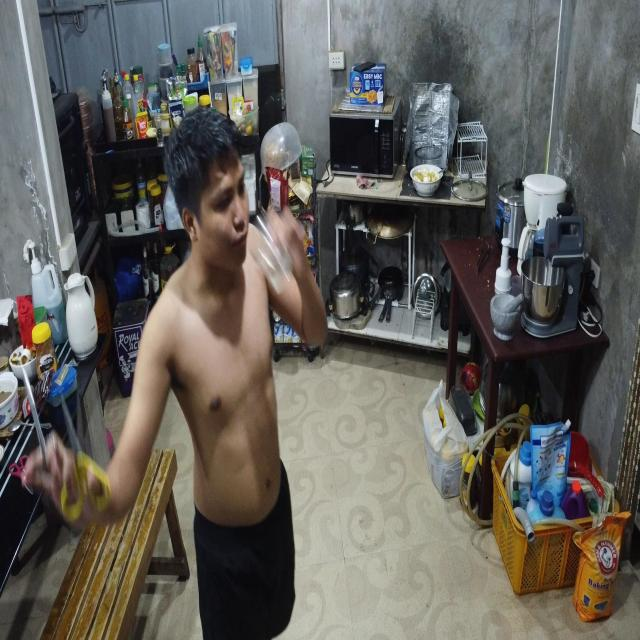scissor: (9, 455, 34, 497)
